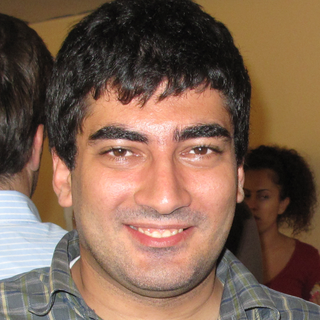eye: (97, 141, 145, 164), (181, 140, 226, 164)
